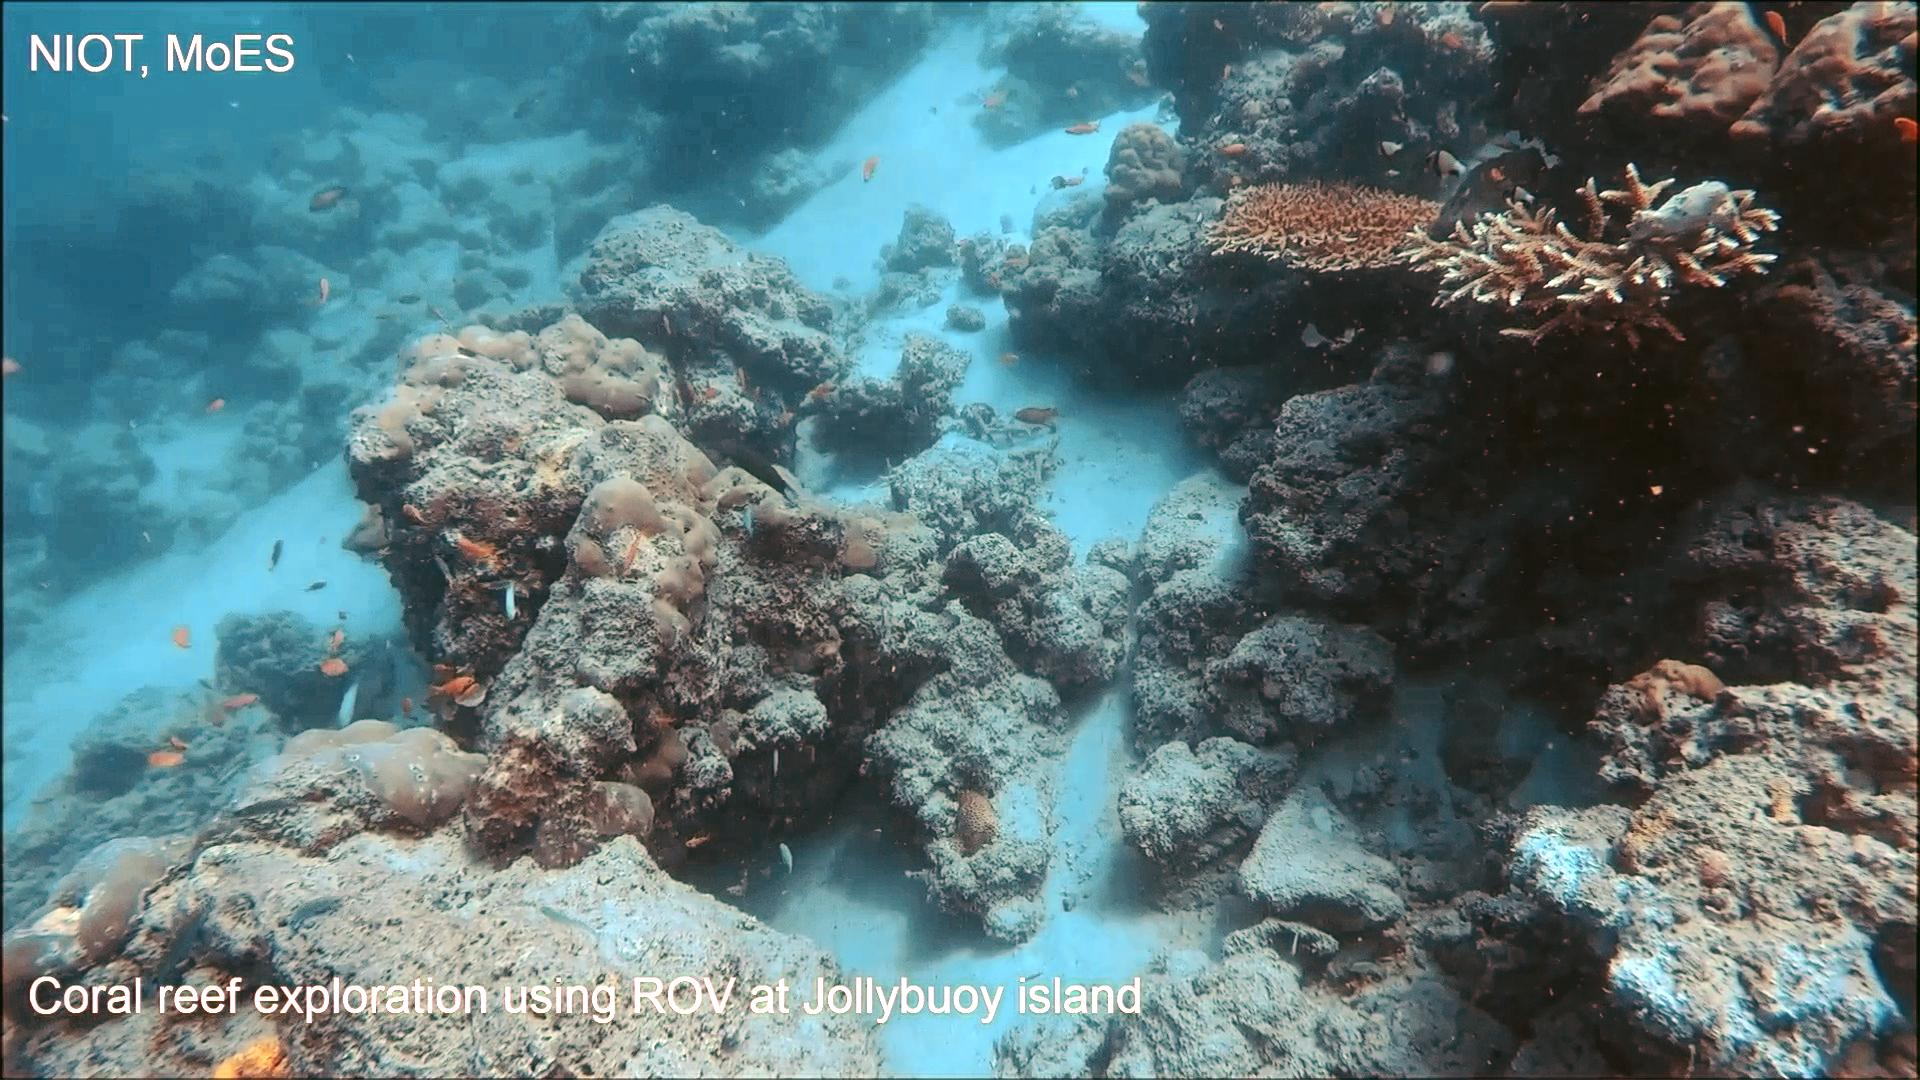Porites-Porites pukoensis: (533, 295, 760, 647)
